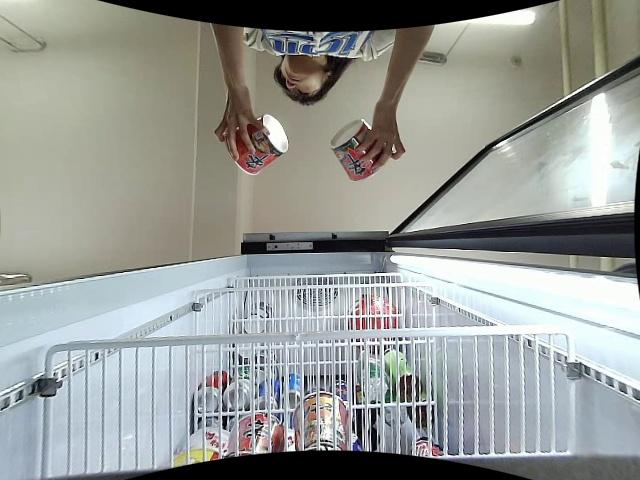00_hand: (213, 91, 269, 161), (356, 101, 405, 173)
01_shinRamen_L: (226, 113, 289, 177), (329, 119, 387, 181)
